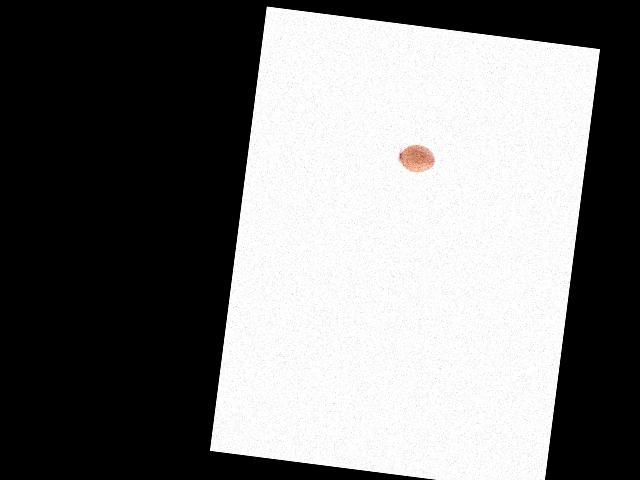egg: (398, 142, 436, 174)
